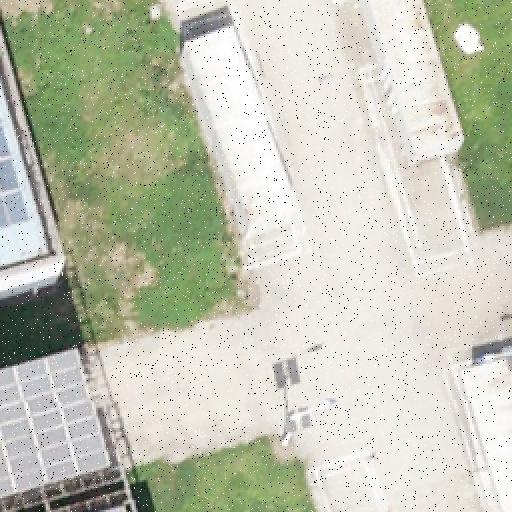solar-panel: (0, 346, 112, 498), (1, 121, 31, 231), (106, 505, 126, 511)
